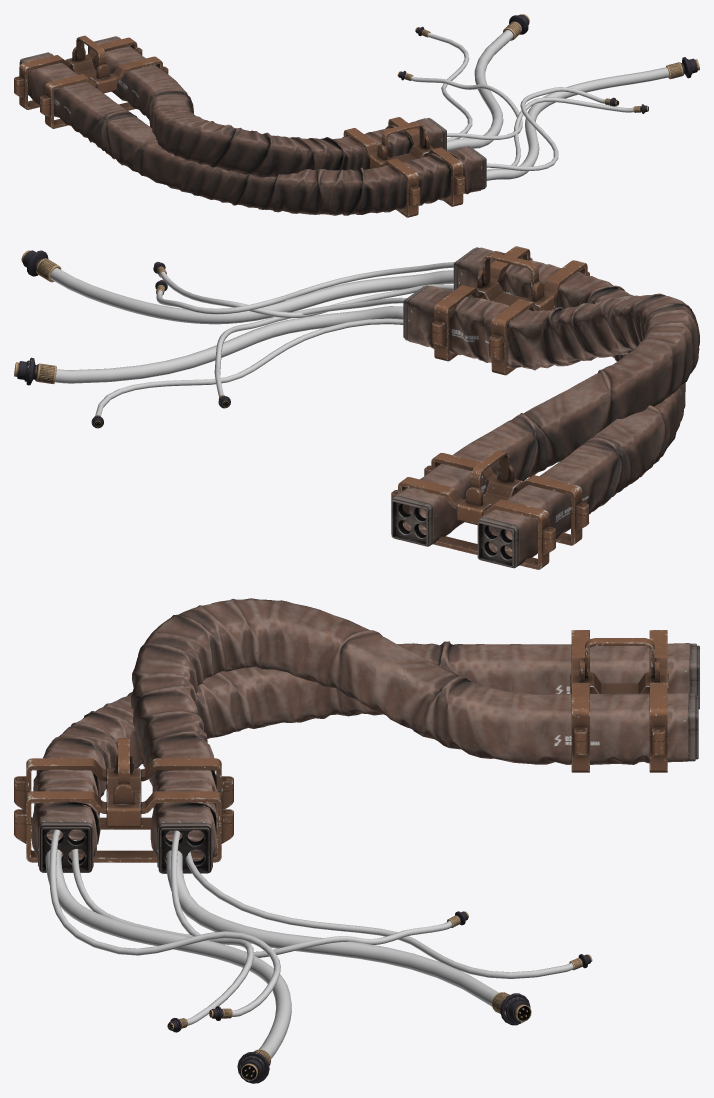
The model's file is SM_Wire02_CornerStyle02.fbx.
3 views of the same model, one above another, from view 1: azimuth 30°, elevation 25°; view 2: azimuth 150°, elevation 25°; view 3: azimuth 270°, elevation 25° (orthographic). The views are drawn at different scales.
Visible parts, largest first — view 1: SM_Wire02_CornerStyle02_LOD0; view 2: SM_Wire02_CornerStyle02_LOD0; view 3: SM_Wire02_CornerStyle02_LOD0.
Part boxes in pixels (x1=…): SM_Wire02_CornerStyle02_LOD0: x1=14, y1=14, x2=699, y2=217; SM_Wire02_CornerStyle02_LOD0: x1=14, y1=246, x2=699, y2=569; SM_Wire02_CornerStyle02_LOD0: x1=14, y1=598, x2=699, y2=1083.
Bounding box in the file's own units: 218 × 157 × 30.17.
4 materials, 1 textured.
